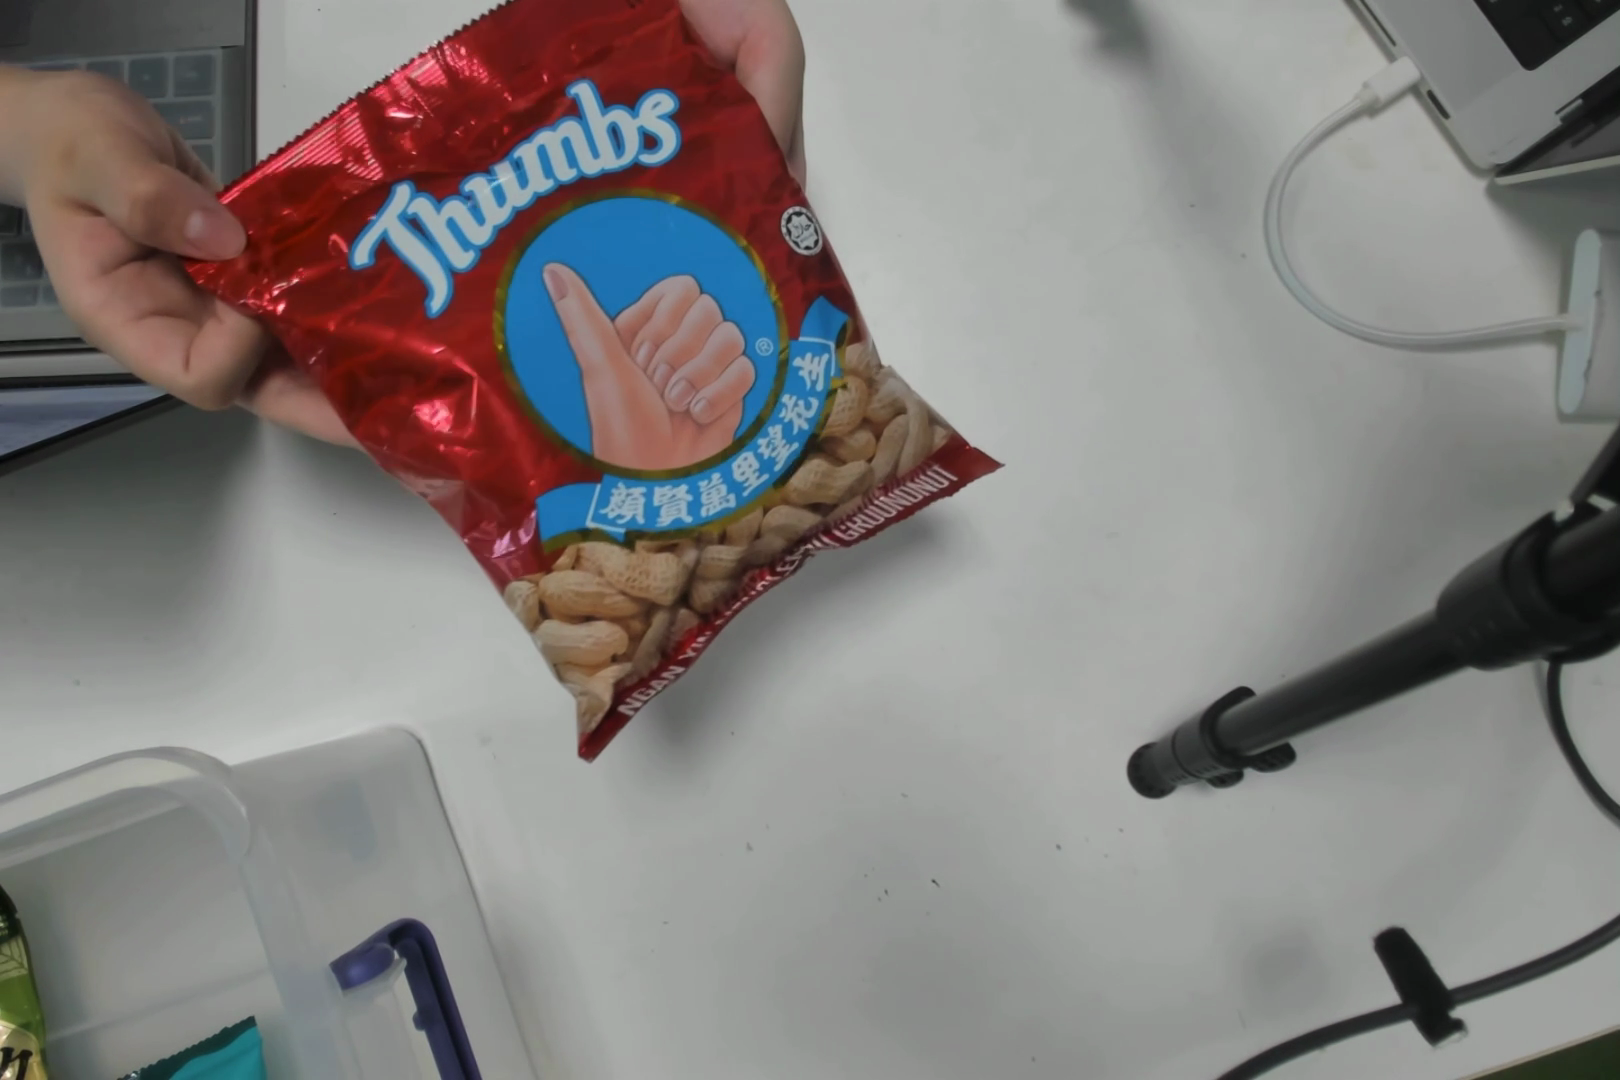Nuts_100-199g_Halal_NonHealthy: (377, 63, 892, 656)
